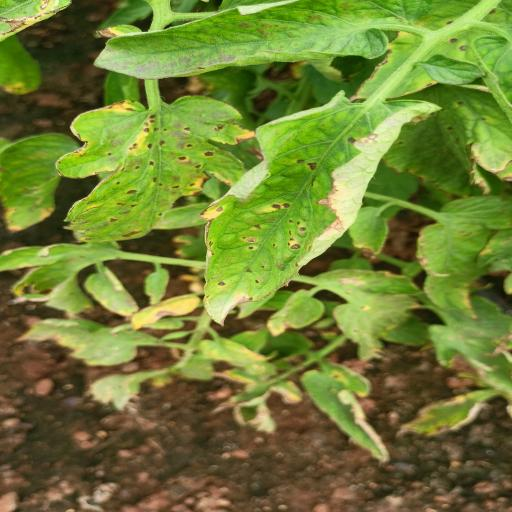Early Blight: (196, 93, 445, 328), (49, 96, 252, 245)
